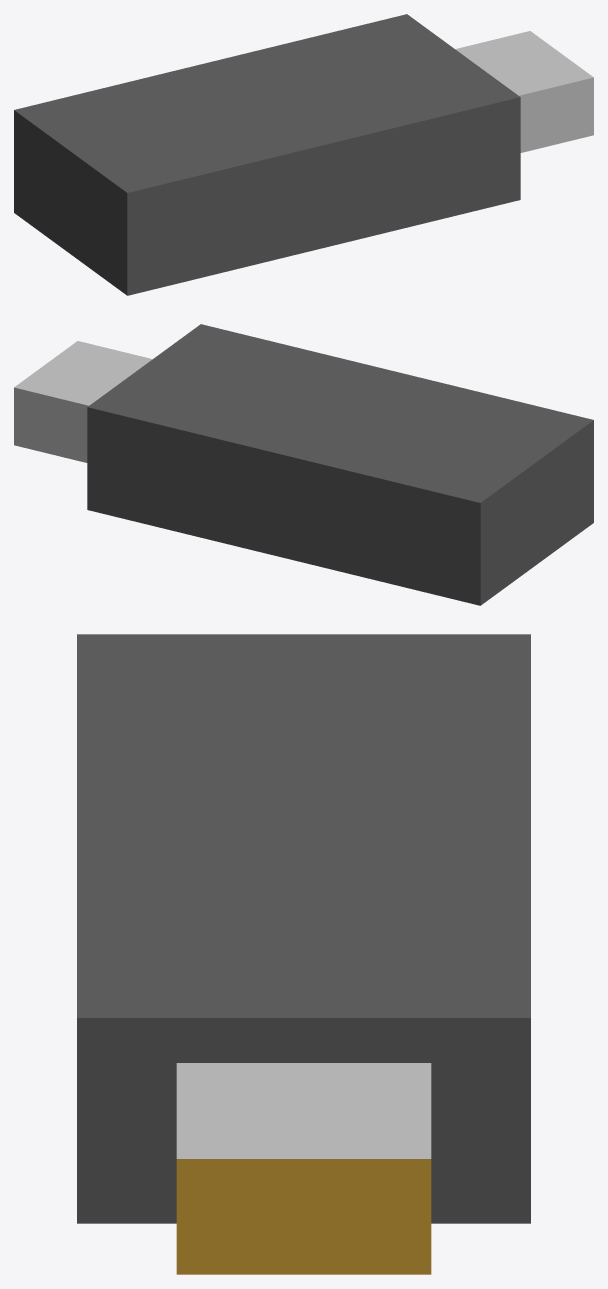
File: usb.fbx
3 views of the same model, one above another, from view 1: azimuth 30°, elevation 25°; view 2: azimuth 150°, elevation 25°; view 3: azimuth 270°, elevation 25° (orthographic). The views are drawn at different scales.
Visible parts, largest first — view 1: pCube1; view 2: pCube1; view 3: pCube1.
Part boxes in pixels (x1,y1,x2,y2): pCube1: [14, 14, 593, 295]; pCube1: [14, 324, 593, 605]; pCube1: [77, 634, 530, 1274].
Size of the model in its own units: 6.25 by 1.25 by 2.5.
1 material, 1 textured.
